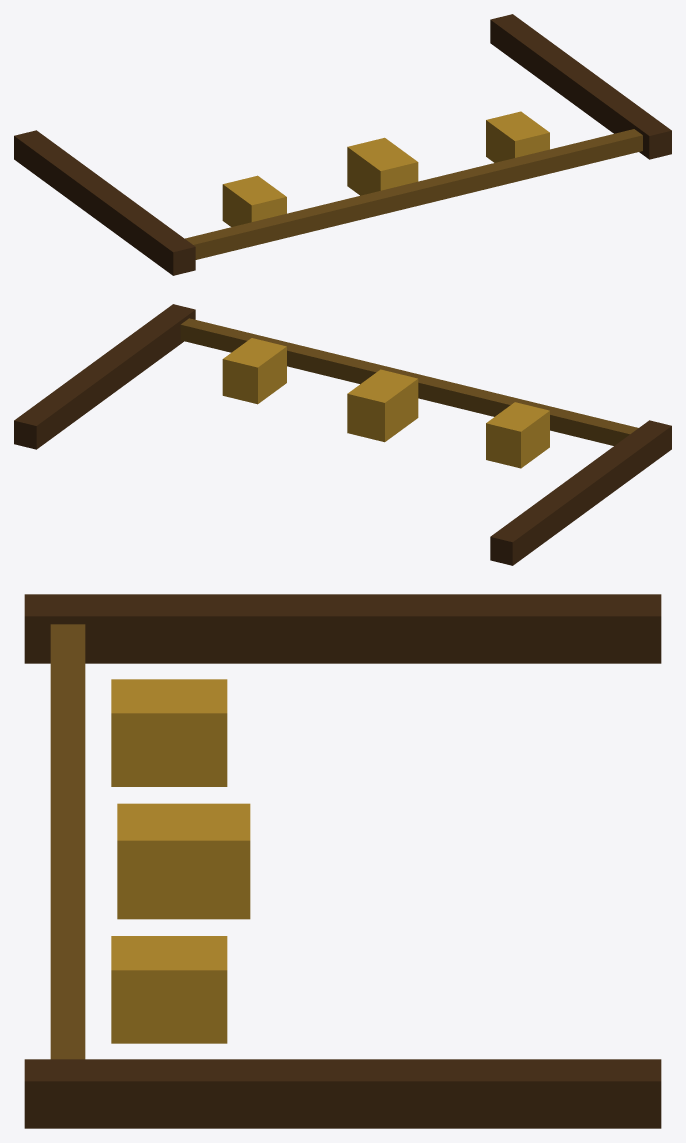
Rendered from SM_LorienRopeLampLine.obj.
3 renders of one model, top to bottom at view 1: azimuth 30°, elevation 25°; view 2: azimuth 150°, elevation 25°; view 3: azimuth 270°, elevation 25°, orthographic. The views are drawn at different scales.
Parts seen in each view (by area): view 1: SM_LorienRopeLampLine; view 2: SM_LorienRopeLampLine; view 3: SM_LorienRopeLampLine.
Boxes of the visible parts, <box> form: SM_LorienRopeLampLine: <box>14,14,671,275</box>; SM_LorienRopeLampLine: <box>14,304,671,565</box>; SM_LorienRopeLampLine: <box>24,594,661,1128</box>.
Size of the model in its own units: 398 by 30 by 220.
